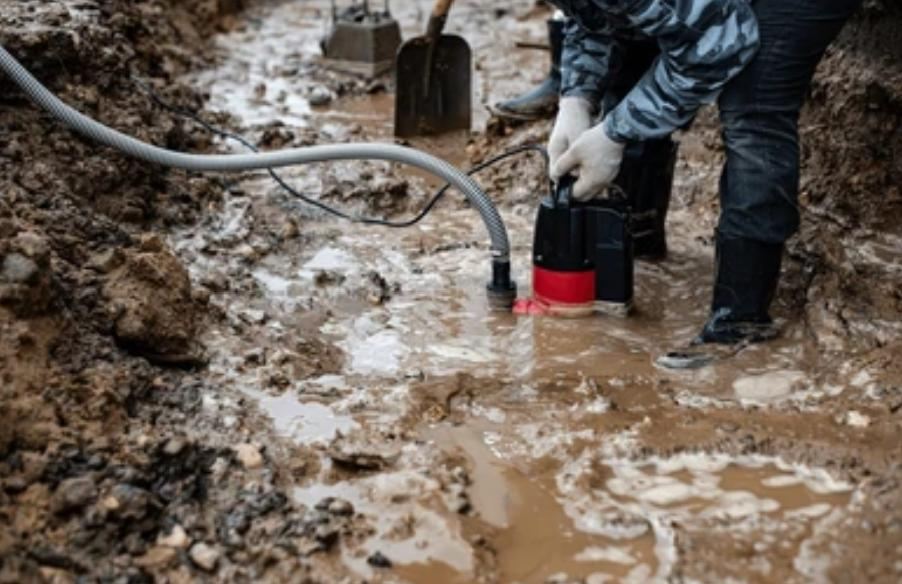water accumulation: (181, 0, 866, 583)
